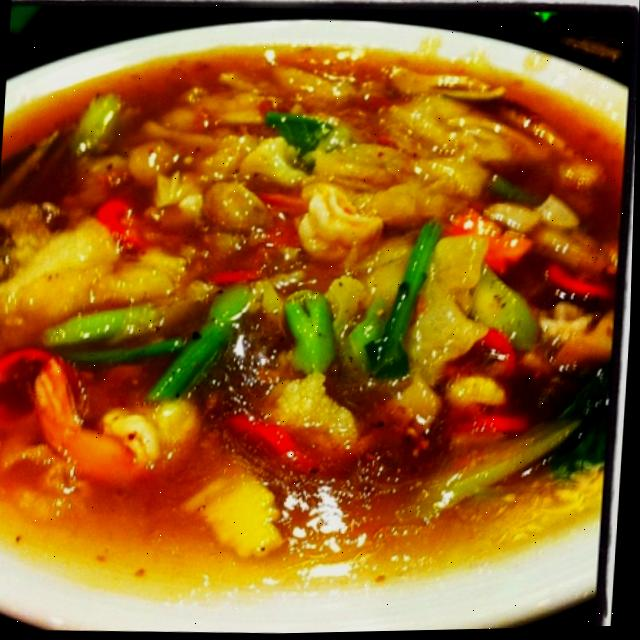面条主食: (0, 47, 613, 619)
